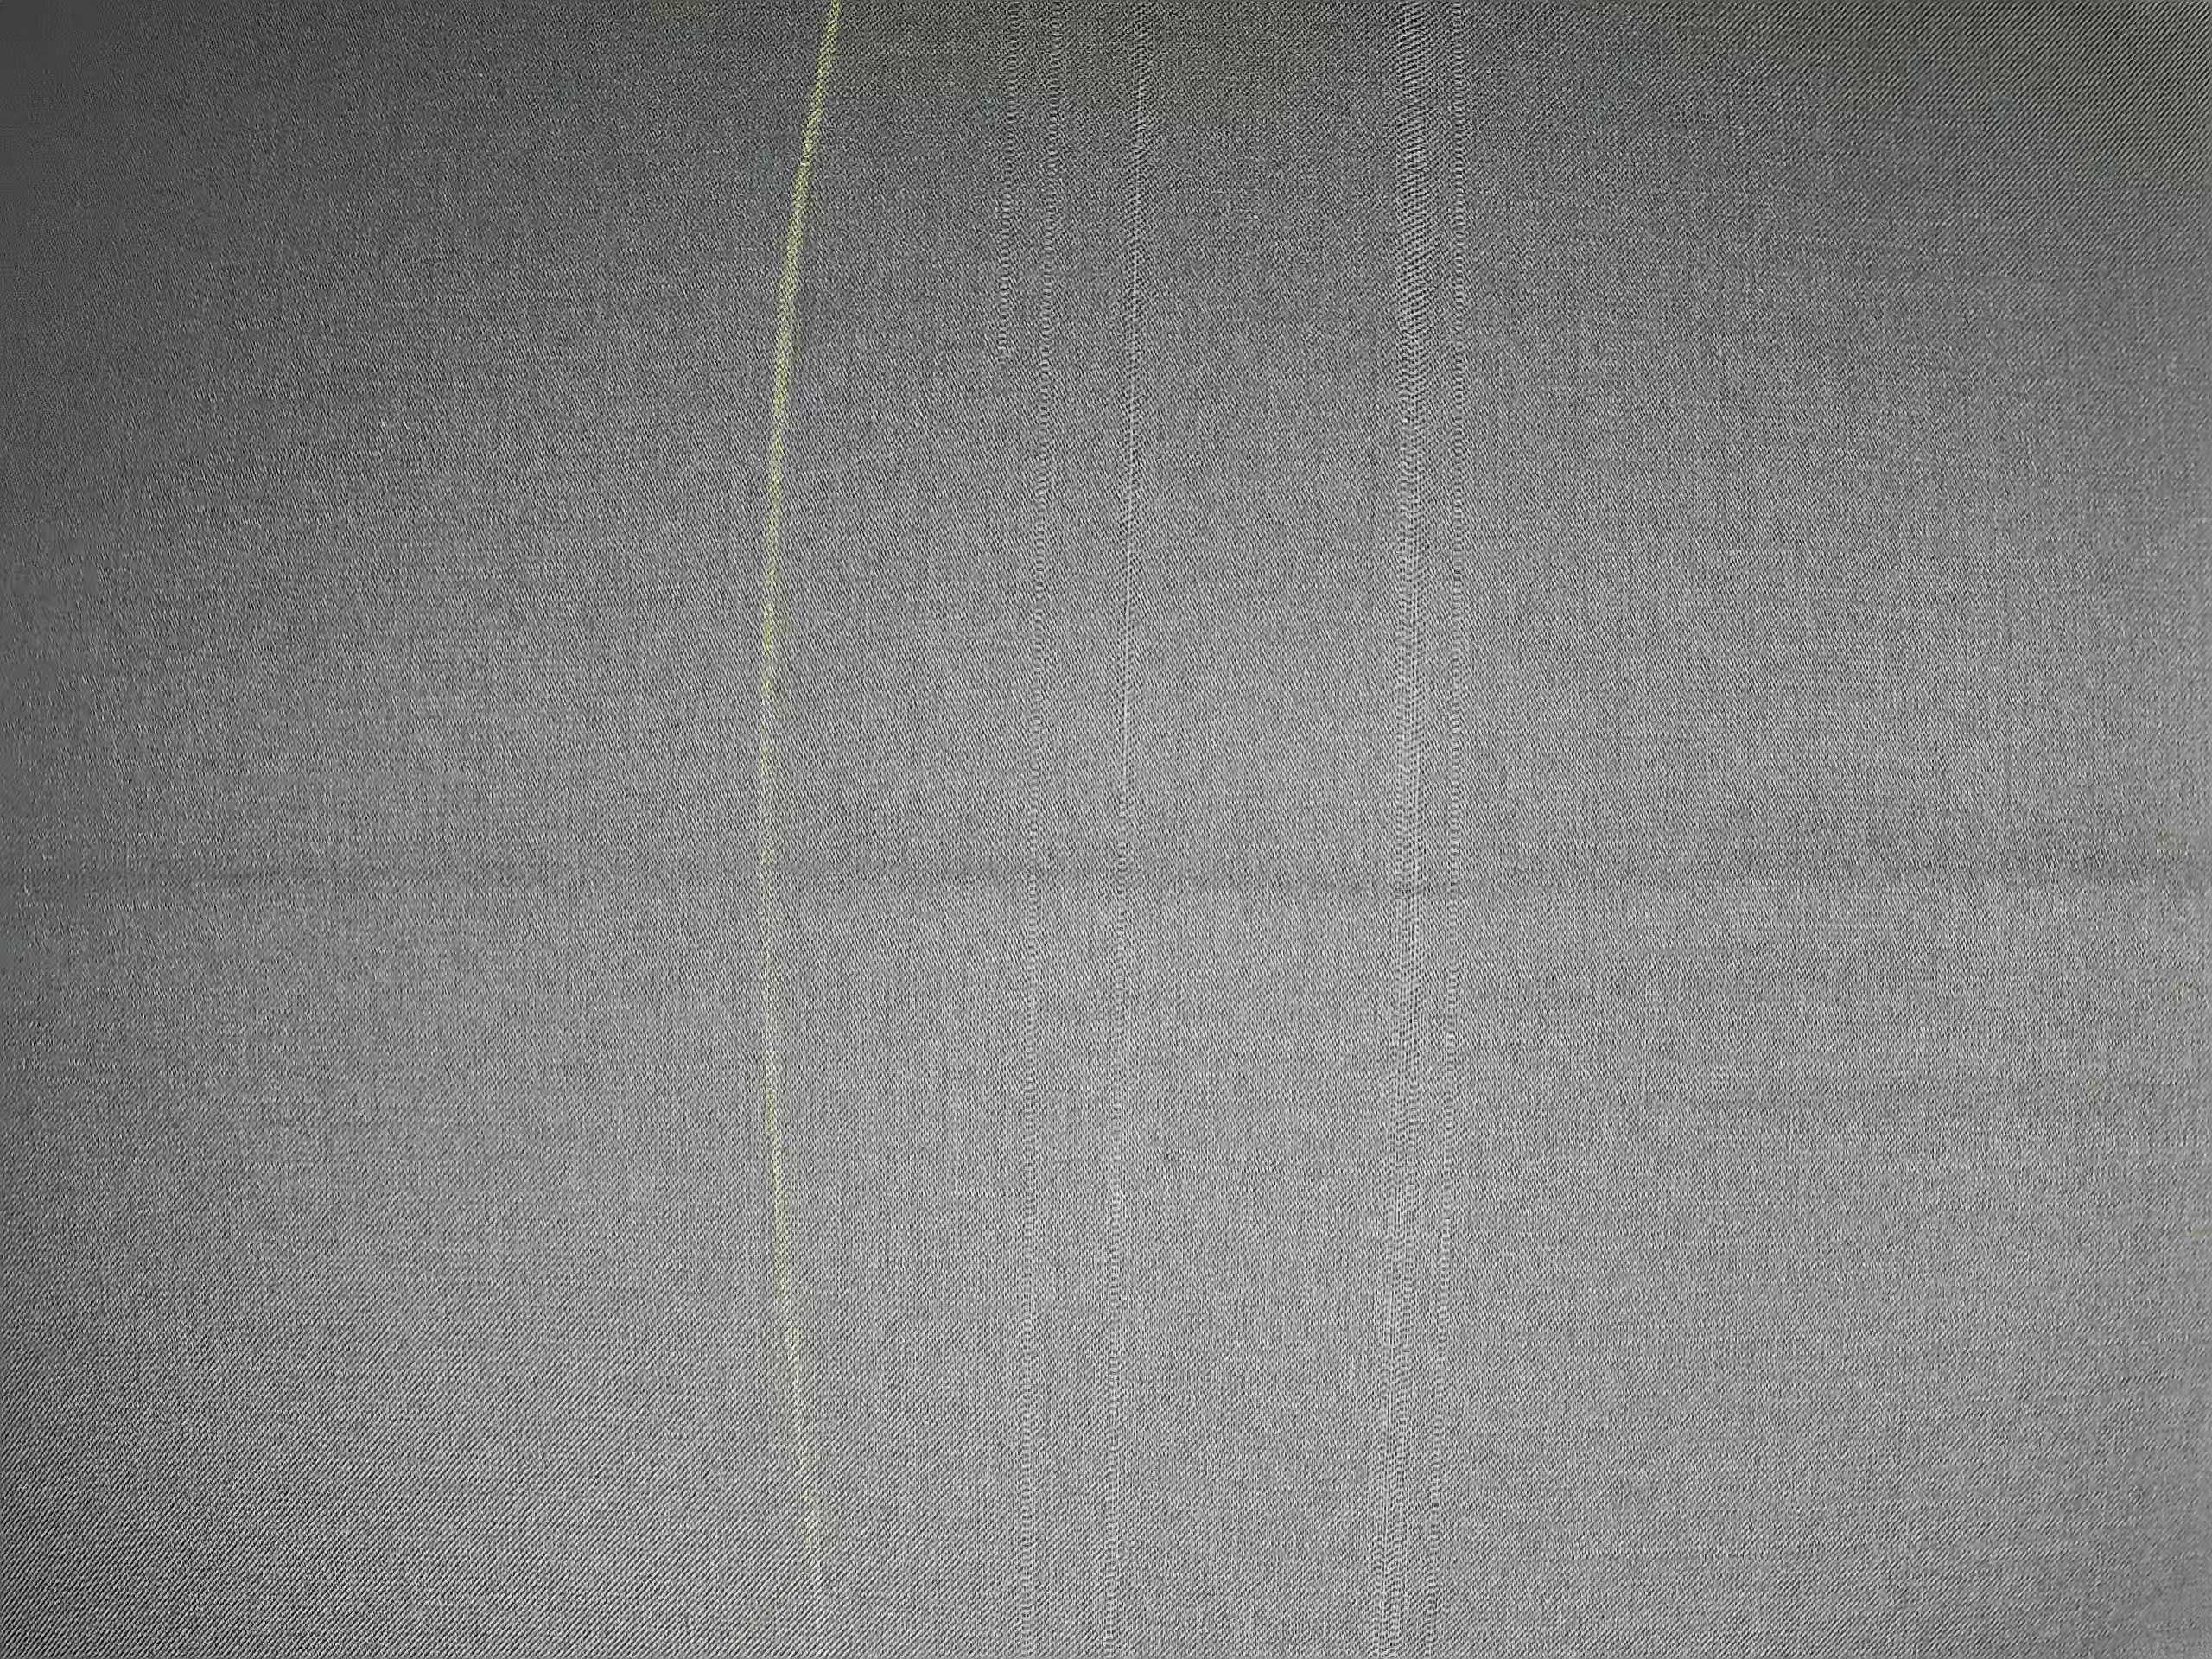lacking-warp: (1350, 12, 1496, 1650), (995, 7, 1054, 1640), (1097, 19, 1155, 1631)
